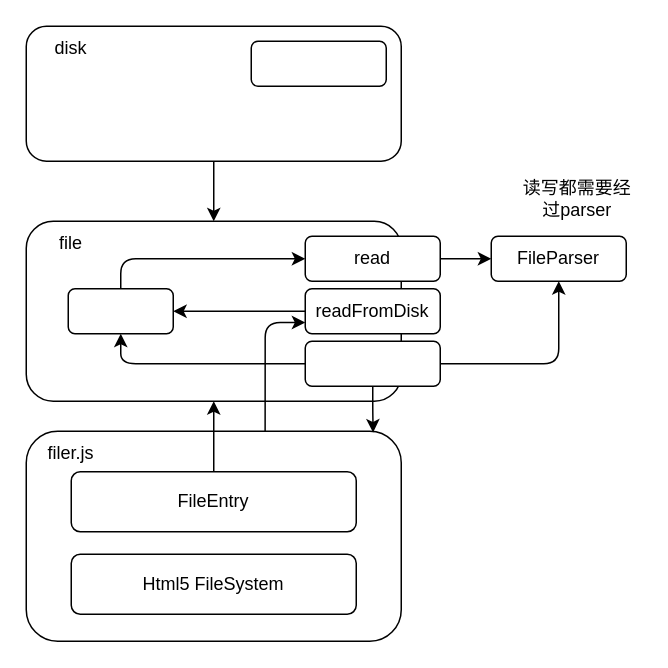
Image size: 668x668. Some labels were removed from this diagram. The shapes that lost their labels are listed below. From the top down, each one's centre as x and y in pixels, then its label:
At (318,63): "applications".
At (120,310): "content".
At (372,363): "write".
